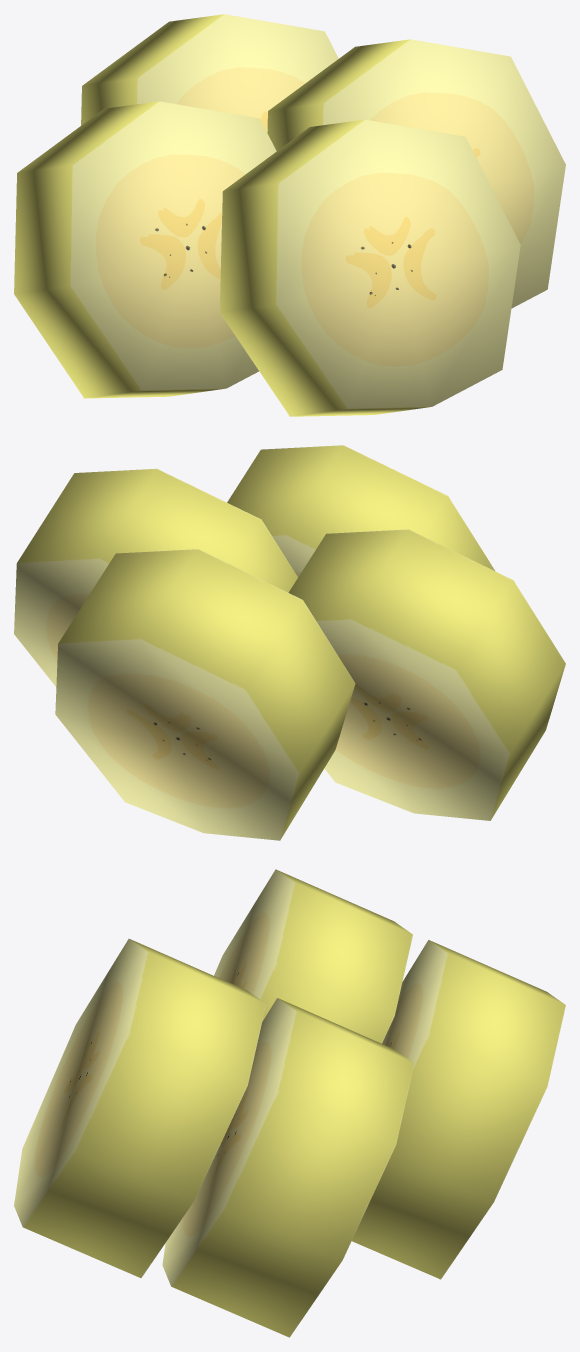
Rendered from Cutbanana.fbx.
3 renders of one model, top to bottom at view 1: azimuth 30°, elevation 25°; view 2: azimuth 150°, elevation 25°; view 3: azimuth 270°, elevation 25°, orthographic. The views are drawn at different scales.
Parts seen in each view (by area): view 1: cutbanana; view 2: cutbanana; view 3: cutbanana.
Boxes of the visible parts, box(x1,y1,x2,y2) form: cutbanana: box(14, 14, 565, 416); cutbanana: box(14, 445, 565, 840); cutbanana: box(14, 869, 565, 1337).
Bounding box in the file's own units: 35.84 × 20.06 × 32.99.
1 material, 1 textured.
